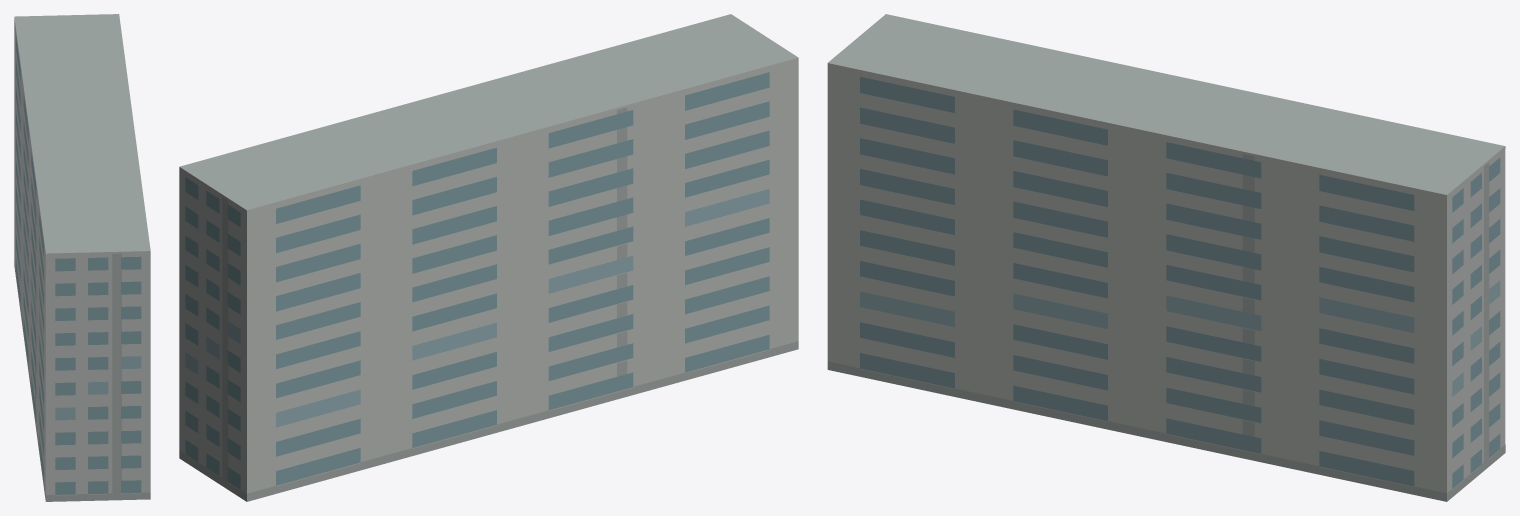
Rendered from residential-fde555bb-f152-4de1-bf9c-91444fc5cd96.glb.
The picture shows the model from 3 angles, left to right: view 1: azimuth 30°, elevation 25°; view 2: azimuth 150°, elevation 25°; view 3: azimuth 270°, elevation 25°; orthographic projection. The views are drawn at different scales.
Visible parts, largest first — view 1: residential-fde555bb-f152-4de1-bf9c-91444fc5cd96.tmp; view 2: residential-fde555bb-f152-4de1-bf9c-91444fc5cd96.tmp; view 3: residential-fde555bb-f152-4de1-bf9c-91444fc5cd96.tmp.
Boxes of the visible parts, x1,y1,x2,y2 form: residential-fde555bb-f152-4de1-bf9c-91444fc5cd96.tmp: (14,14,150,501); residential-fde555bb-f152-4de1-bf9c-91444fc5cd96.tmp: (179,14,798,501); residential-fde555bb-f152-4de1-bf9c-91444fc5cd96.tmp: (827,14,1505,501).
Bounding box in the file's own units: 38.61 × 30.5 × 61.08.
